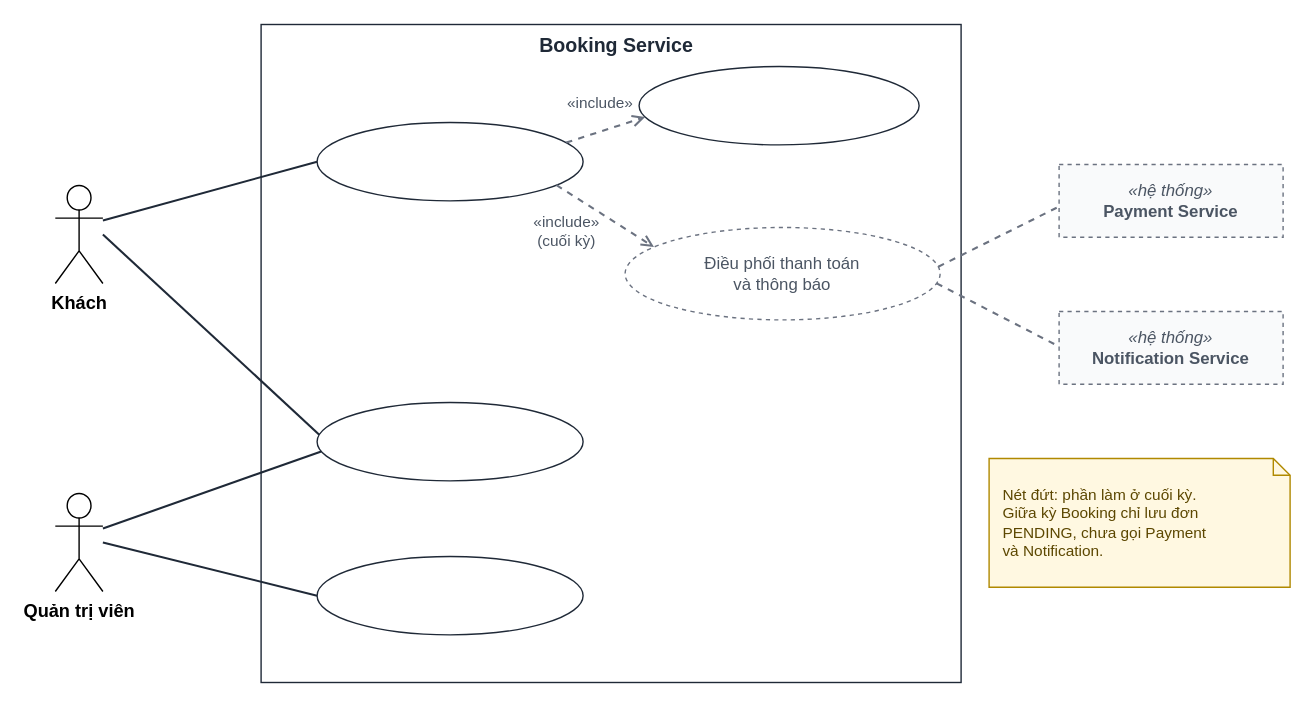
Image size: 1315x707. Some labels were removed from this diagram. Here are the shapes that lost their labels. From the top down, the centre of each, then its label:
At [778,105]: "Kiểm tra ghế còn trống".
At [449,161]: "Đặt vé".
At [449,441]: "Xem chi tiết đơn".
At [449,595]: "Xem danh sách đơn".
